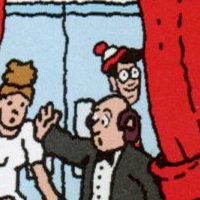waldo: (107, 46, 140, 94)
